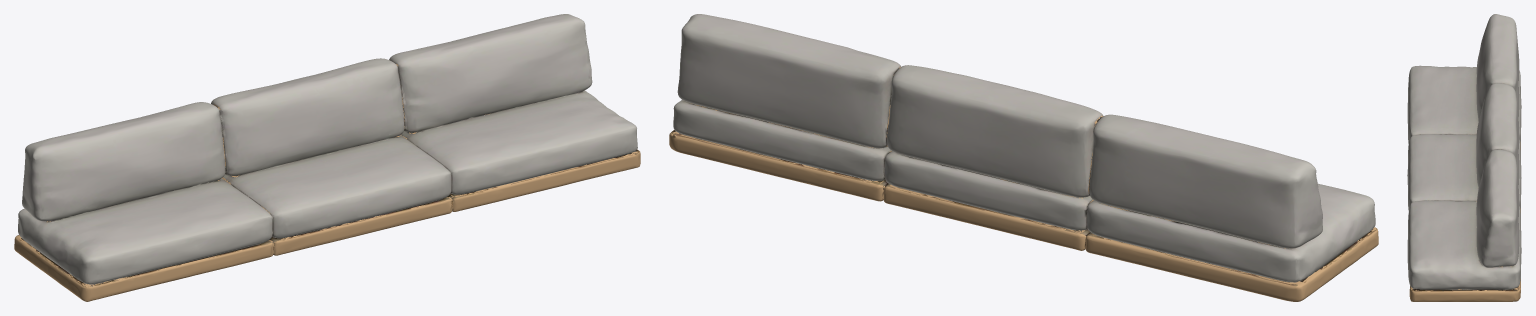
3 views of the same model, side by side, from view 1: azimuth 30°, elevation 25°; view 2: azimuth 150°, elevation 25°; view 3: azimuth 270°, elevation 25° (orthographic). The views are drawn at different scales.
Visible parts, largest first — view 1: tripo_node_d3278308-d0de-4f8f-9850-85a49a4efd26; view 2: tripo_node_d3278308-d0de-4f8f-9850-85a49a4efd26; view 3: tripo_node_d3278308-d0de-4f8f-9850-85a49a4efd26.
Part boxes in pixels (<box>): tripo_node_d3278308-d0de-4f8f-9850-85a49a4efd26: <box>14,14,640,301</box>; tripo_node_d3278308-d0de-4f8f-9850-85a49a4efd26: <box>669,14,1378,301</box>; tripo_node_d3278308-d0de-4f8f-9850-85a49a4efd26: <box>1407,14,1521,301</box>.
Size of the model in its own units: 3.37 by 0.6501 by 0.78.
2 materials, 1 textured.
